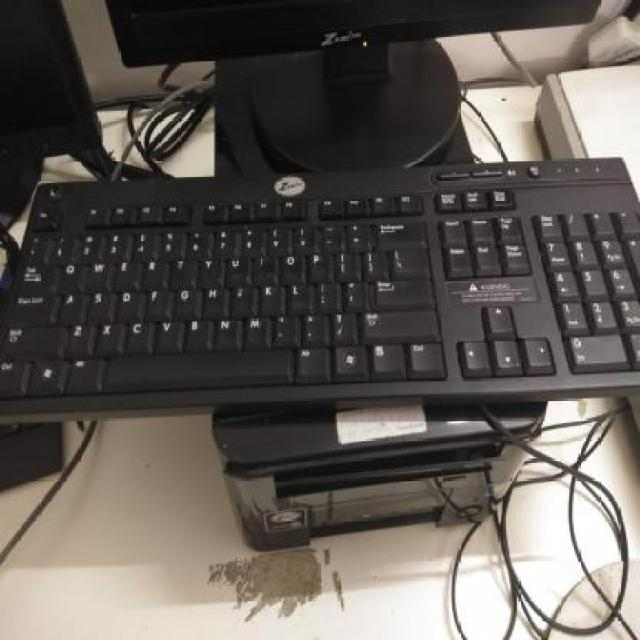keyboard: (0, 158, 640, 430)
